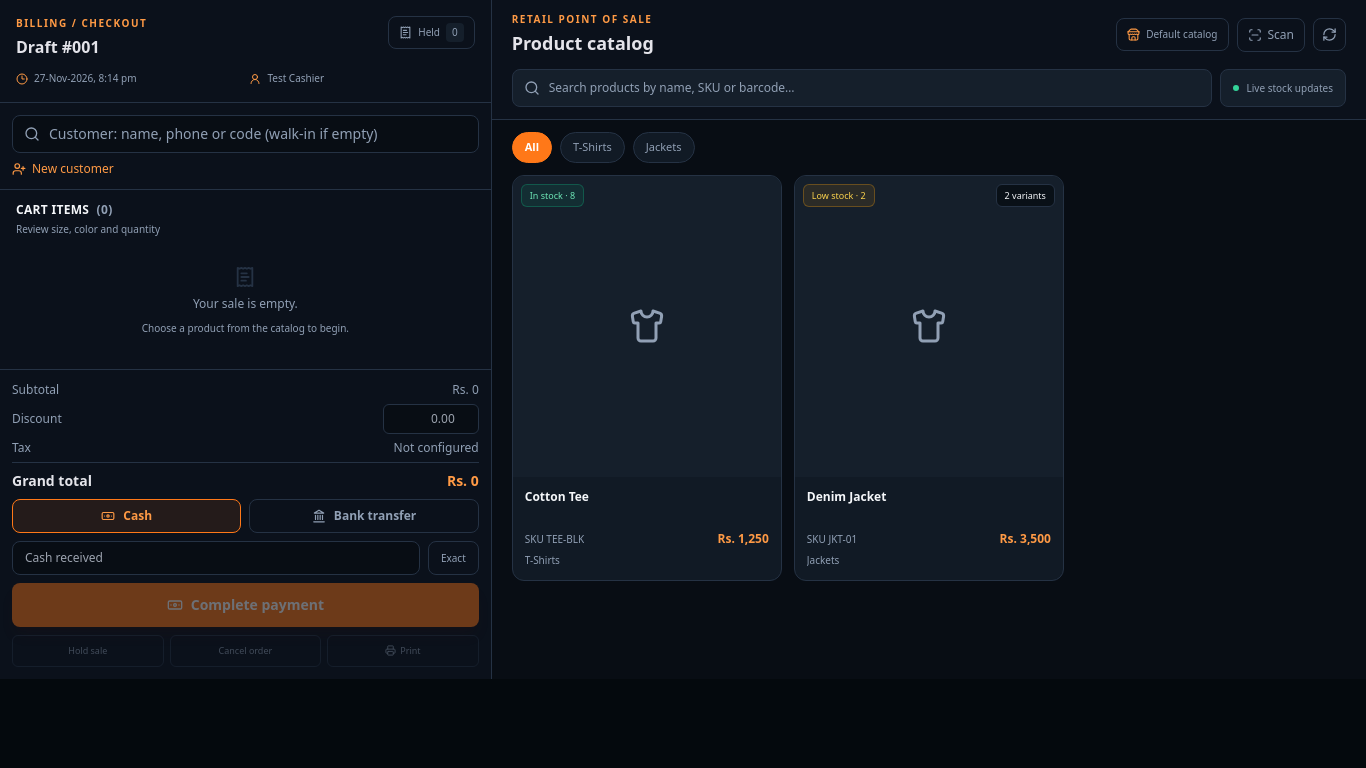
Test: POS terminal › holds and resumes a sale draft and validates the amount received
The width and height of the screenshot is (1366, 768).
Click the button "In stock · 8 Cotton Tee SKU TEE-BLK Rs. 1,250 T-Shirts" at (647, 378), box left=512, top=174, right=782, bottom=581
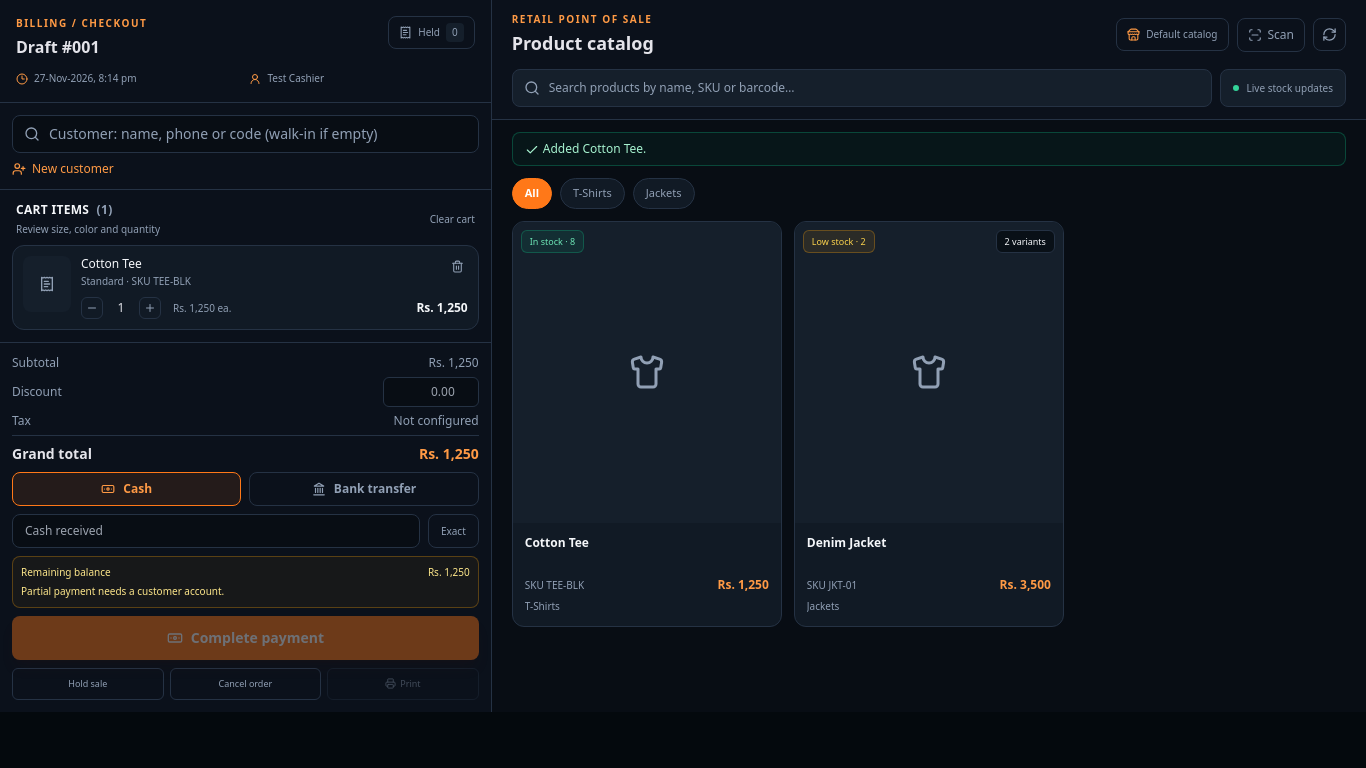
Type "100" into the number field labelled "Cash received" at (216, 531), box left=12, top=514, right=420, bottom=548
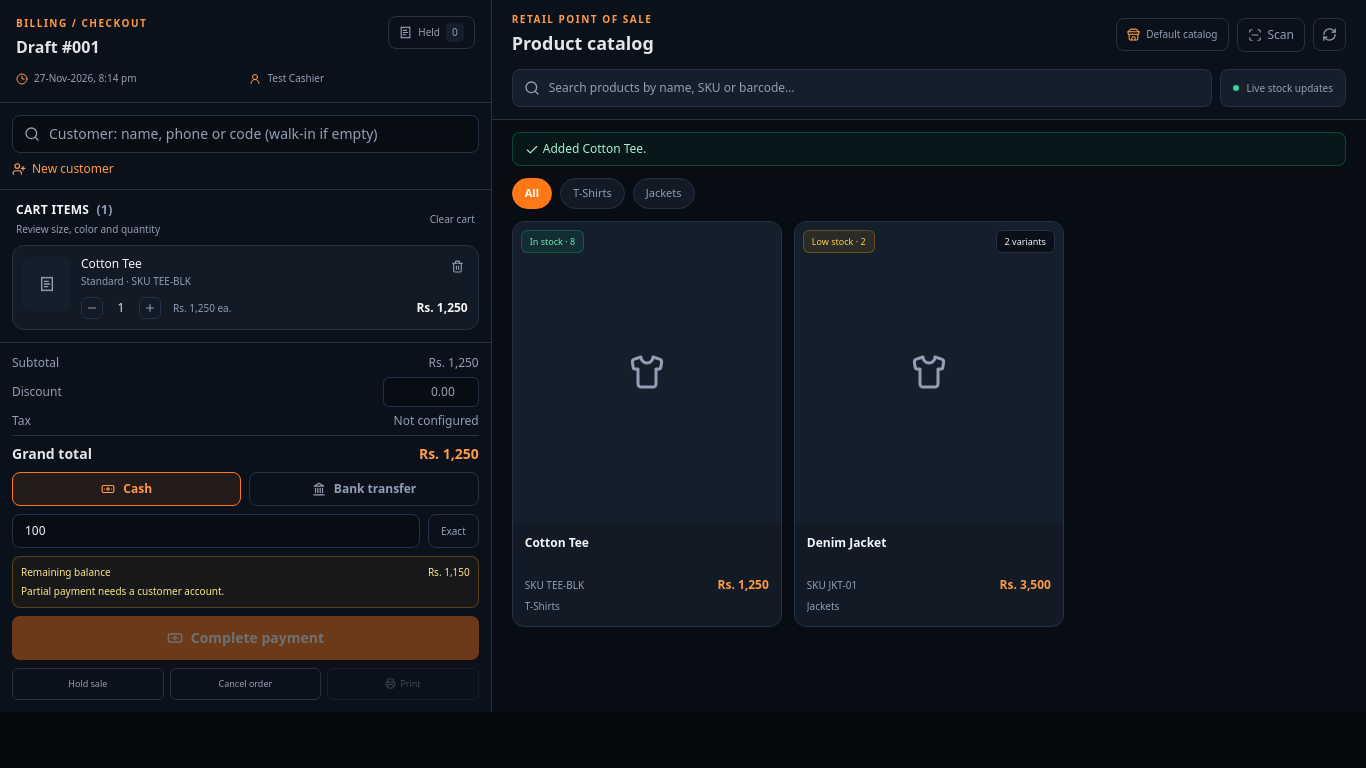
Expected: the button "Complete payment" is disabled, left=12, top=616, right=479, bottom=660
Click the button "Hold sale" at (88, 684), box left=12, top=668, right=164, bottom=700
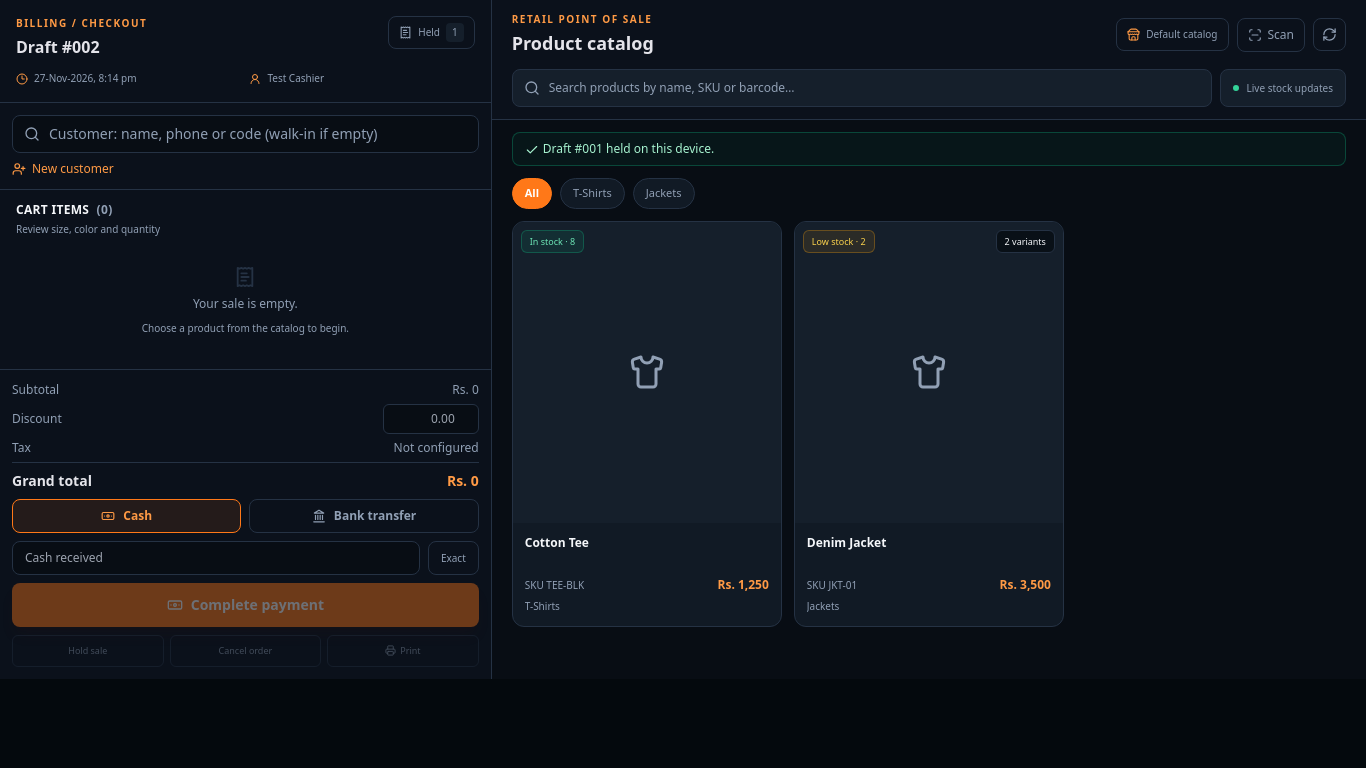
Expected: the text "Your sale is empty." is shown, left=193, top=296, right=298, bottom=312
Click the button "Held 1" at (431, 32), box left=388, top=16, right=475, bottom=49
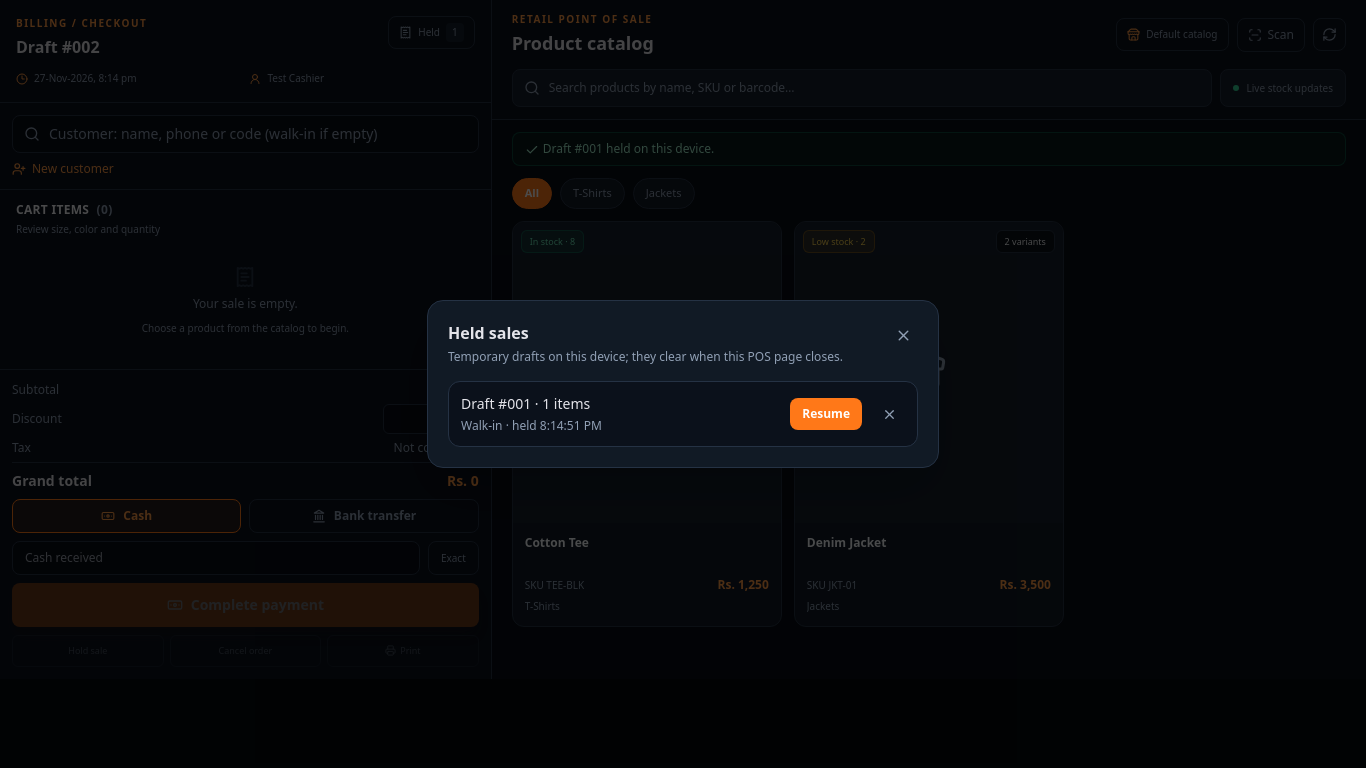
Click the button "Resume" at (826, 414), box left=790, top=398, right=862, bottom=430
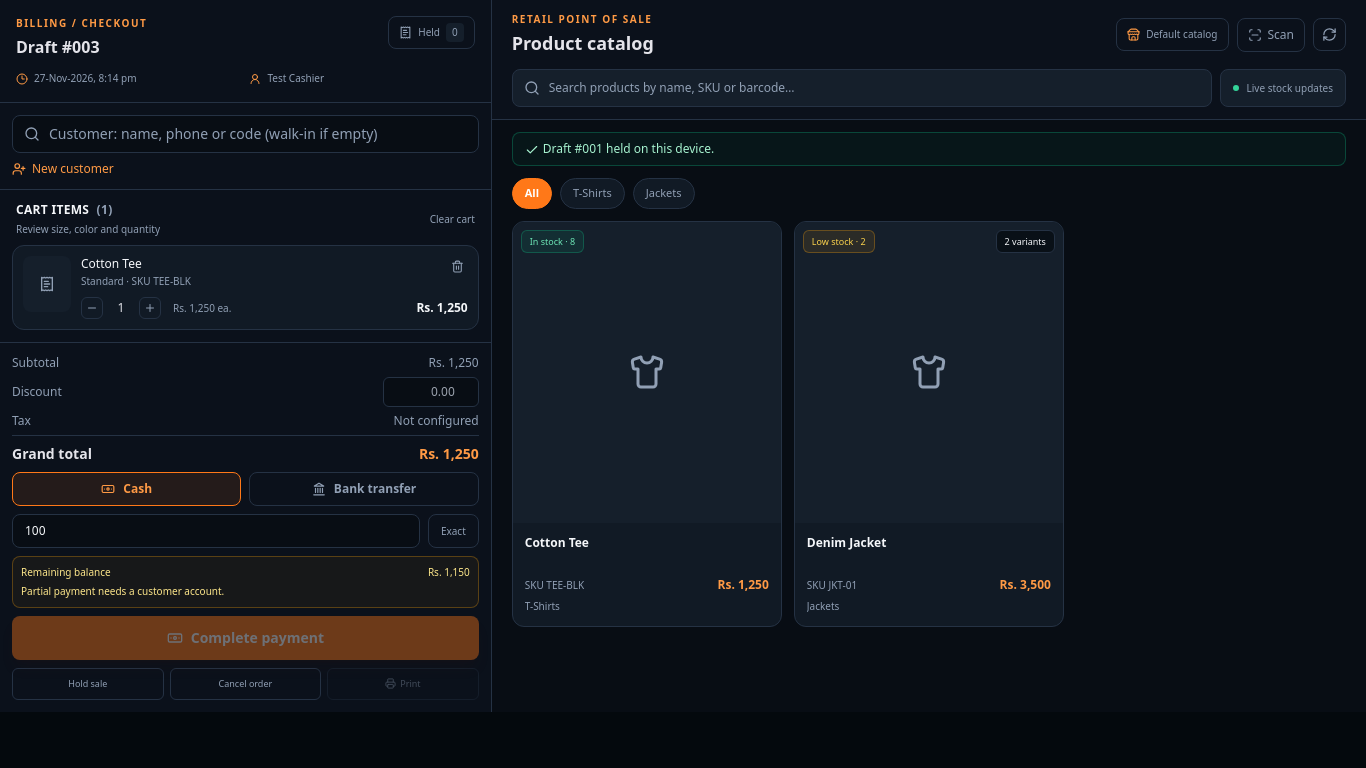
Expected: the button "Complete payment" is disabled, left=12, top=616, right=479, bottom=660
Expected: the text "Cotton Tee" is shown 2 times, left=81, top=255, right=142, bottom=272; left=525, top=534, right=589, bottom=551
